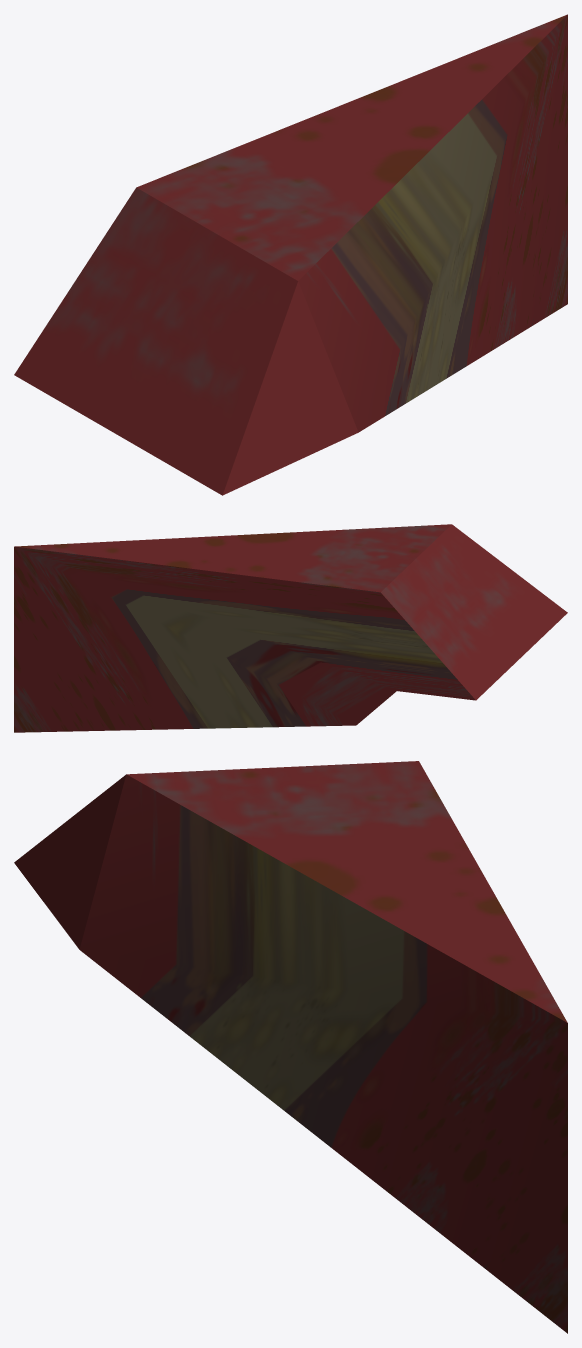
Rendered from ishi_03_10_7.fbx.
3 views of the same model, one above another, from view 1: azimuth 30°, elevation 25°; view 2: azimuth 150°, elevation 25°; view 3: azimuth 270°, elevation 25° (orthographic). The views are drawn at different scales.
Visible parts, largest first — view 1: polySurface54; view 2: polySurface54; view 3: polySurface54.
Part boxes in pixels (<box>): polySurface54: <box>14,14,567,495</box>; polySurface54: <box>14,524,567,732</box>; polySurface54: <box>14,761,567,1333</box>.
Bounding box in the file's own units: 11.81 × 5.14 × 8.3.
1 material, 1 textured.
